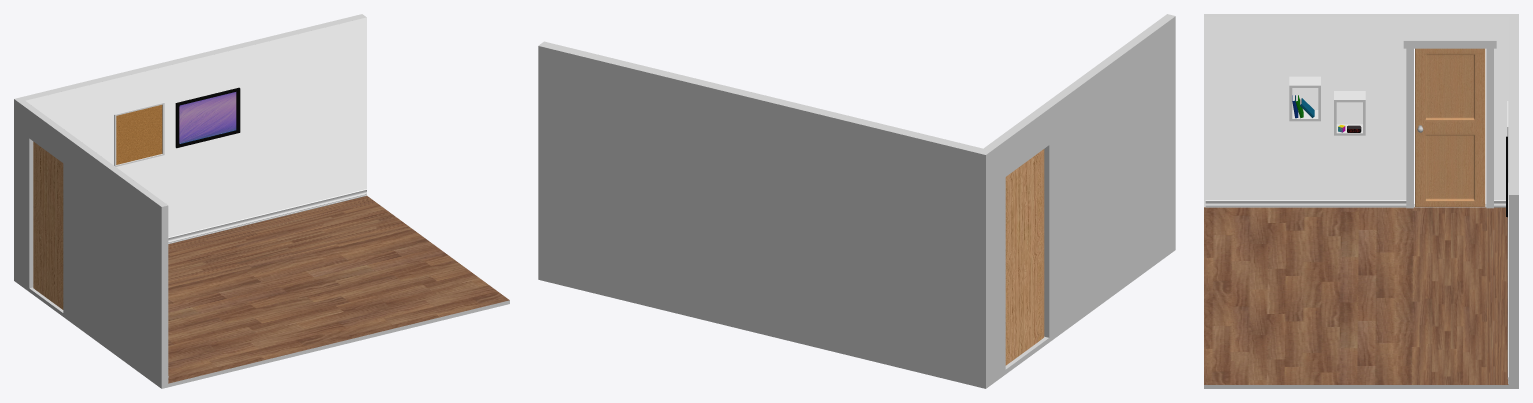
File: defaultRoom-transformed.glb
3 renders of one model, left to right at view 1: azimuth 30°, elevation 25°; view 2: azimuth 150°, elevation 25°; view 3: azimuth 270°, elevation 25°, orthographic. The views are drawn at different scales.
Visible parts, largest first — view 1: Cube, Plane, Plane.003, Plane.002; view 2: Cube, Plane; view 3: Cube, Plane.
Part boxes in pixels (bbox=[...]): Cube: bbox=[14, 14, 509, 388]; Plane: bbox=[33, 141, 63, 309]; Plane.003: bbox=[116, 105, 162, 164]; Plane.002: bbox=[179, 92, 236, 143]; Cube: bbox=[538, 14, 1175, 388]; Plane: bbox=[1005, 149, 1044, 365]; Cube: bbox=[1204, 14, 1518, 388]; Plane: bbox=[1415, 48, 1485, 206].
Size of the model in its own units: 196 by 97.84 by 144.
7 materials, 7 textured.
